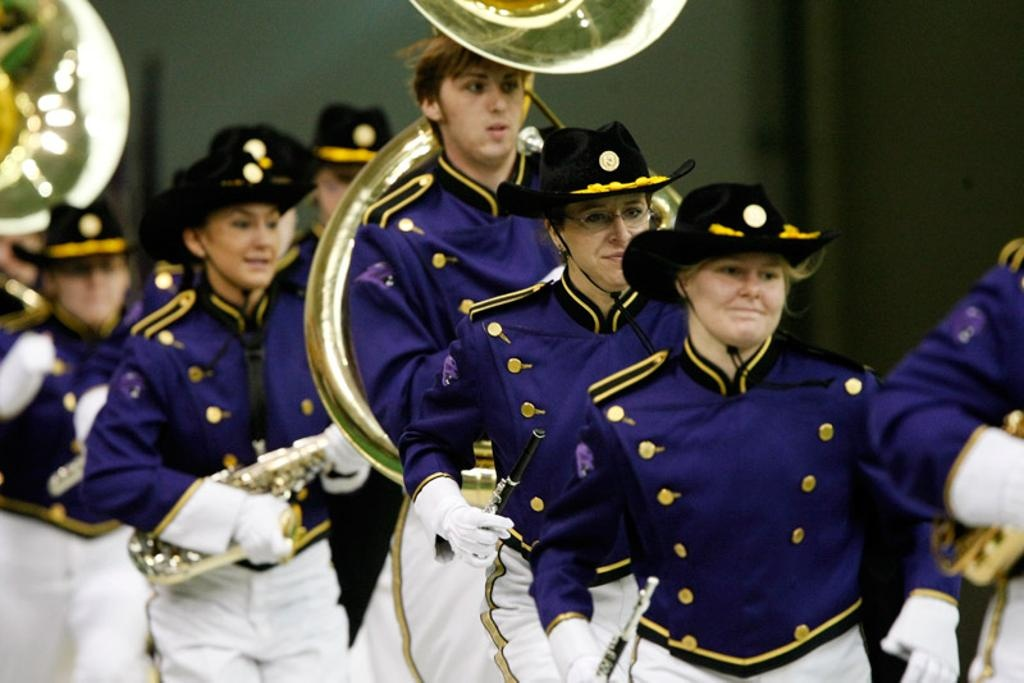human_face: (694, 242, 786, 342), (440, 52, 524, 158), (570, 184, 650, 288), (202, 202, 280, 290), (56, 246, 124, 320)
